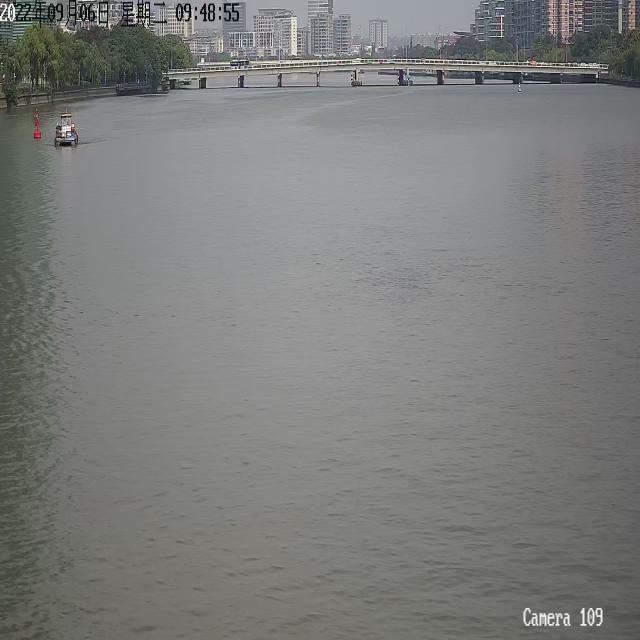ship: (54, 112, 78, 144)
